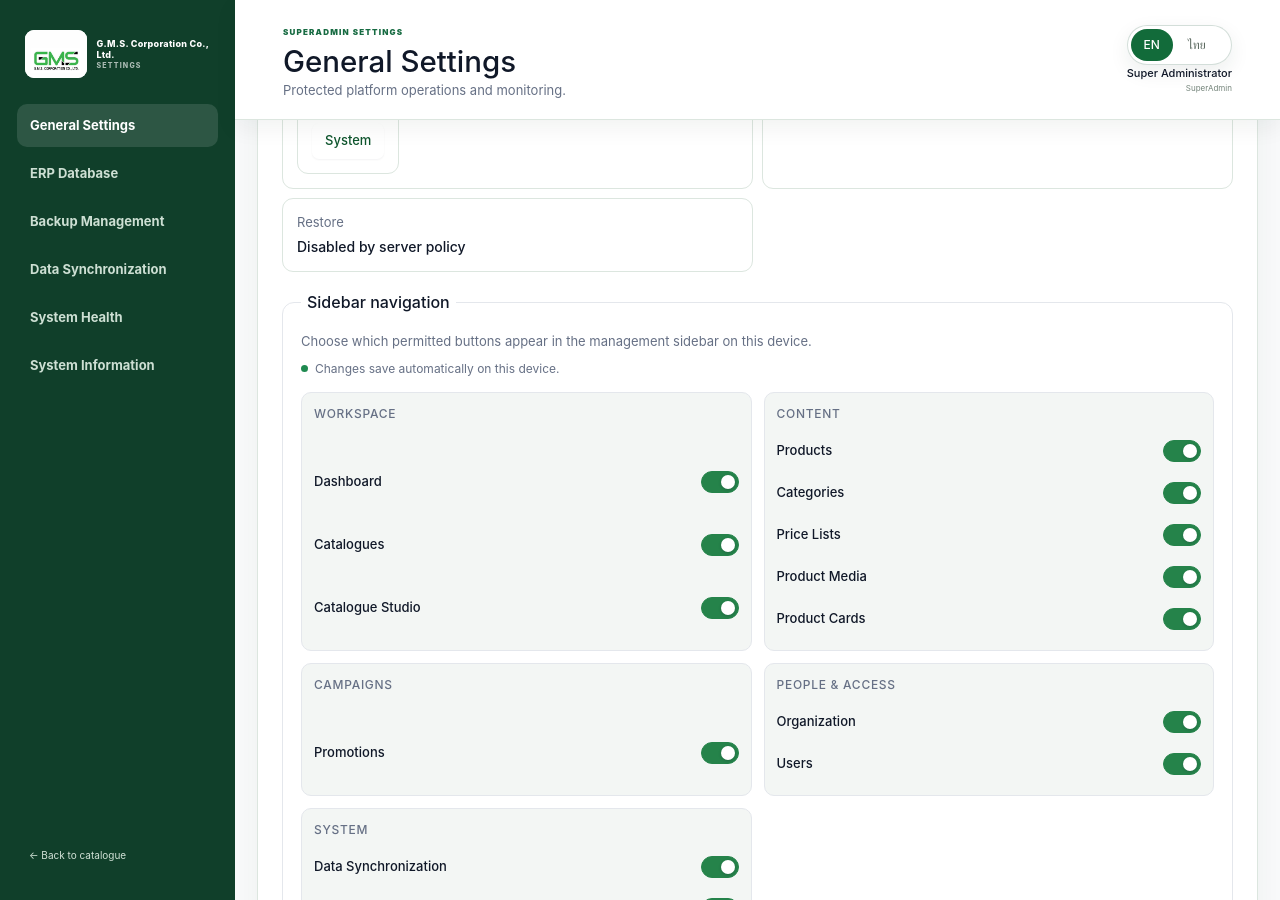
Test: SuperAdmin Settings › reports when a sidebar visibility change cannot be saved
The image size is (1280, 900).
(page scrolled)
Click the switch labelled "Products".
click(804, 450)  # box 776,440 -> 1201,462
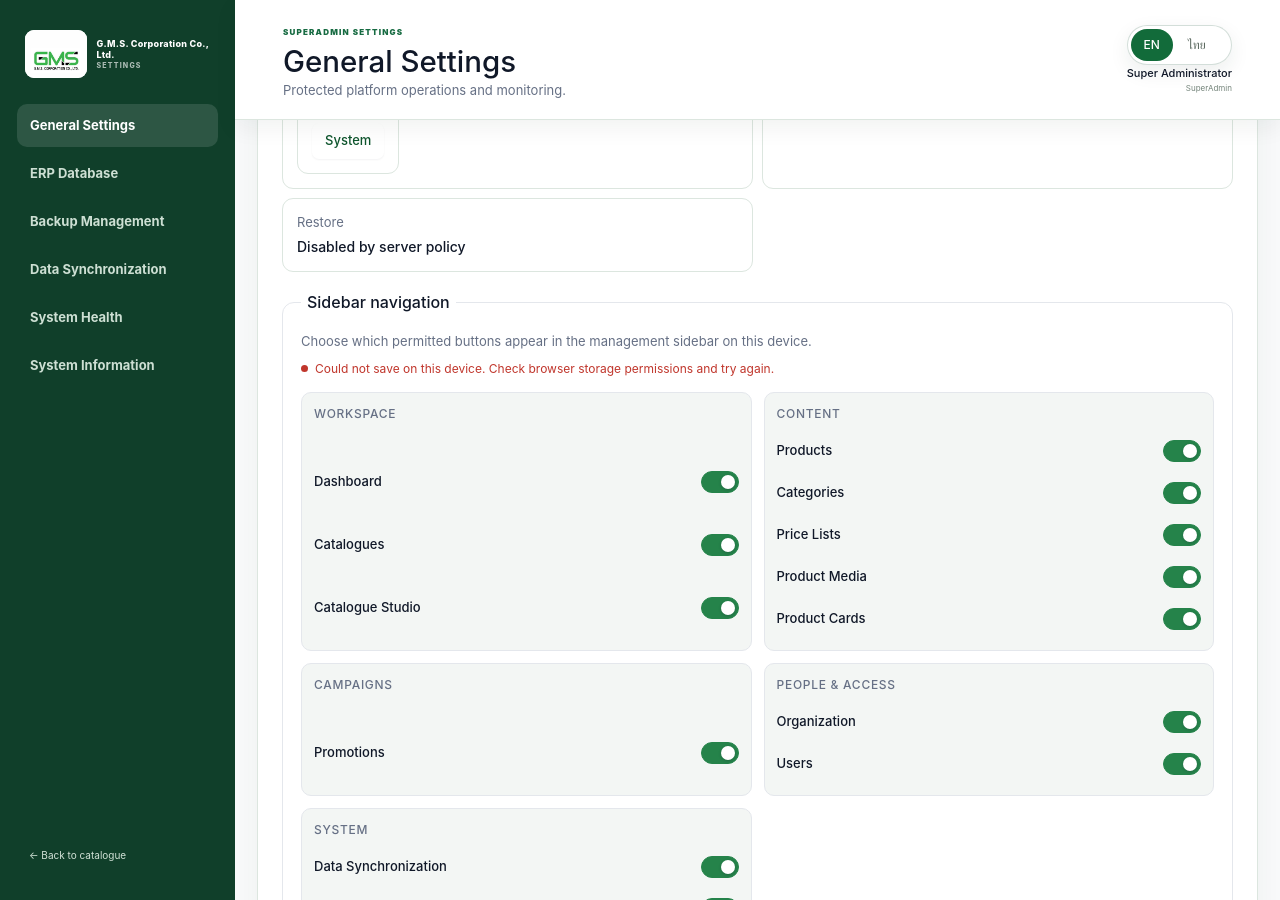
Now the message reads "Could not save on this device. Check browser storage permissions and try again.", box 315,361 -> 774,376
